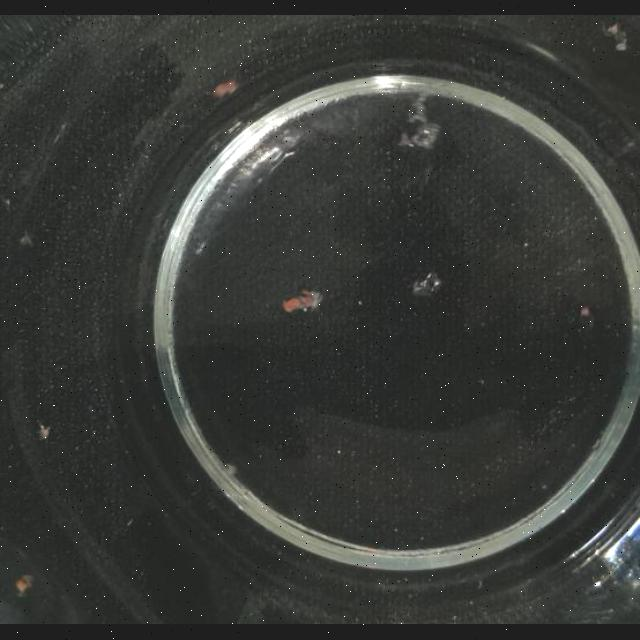Fibre: (392, 82, 436, 152)
Fragment: (282, 288, 324, 314), (412, 272, 442, 298), (604, 22, 628, 52), (213, 80, 239, 98), (17, 575, 35, 593)
microbeads: (19, 232, 33, 248), (38, 425, 51, 441), (224, 464, 238, 478), (580, 306, 590, 318), (2, 200, 12, 210), (523, 242, 529, 248), (336, 450, 342, 456), (392, 528, 398, 534), (358, 300, 362, 306)
